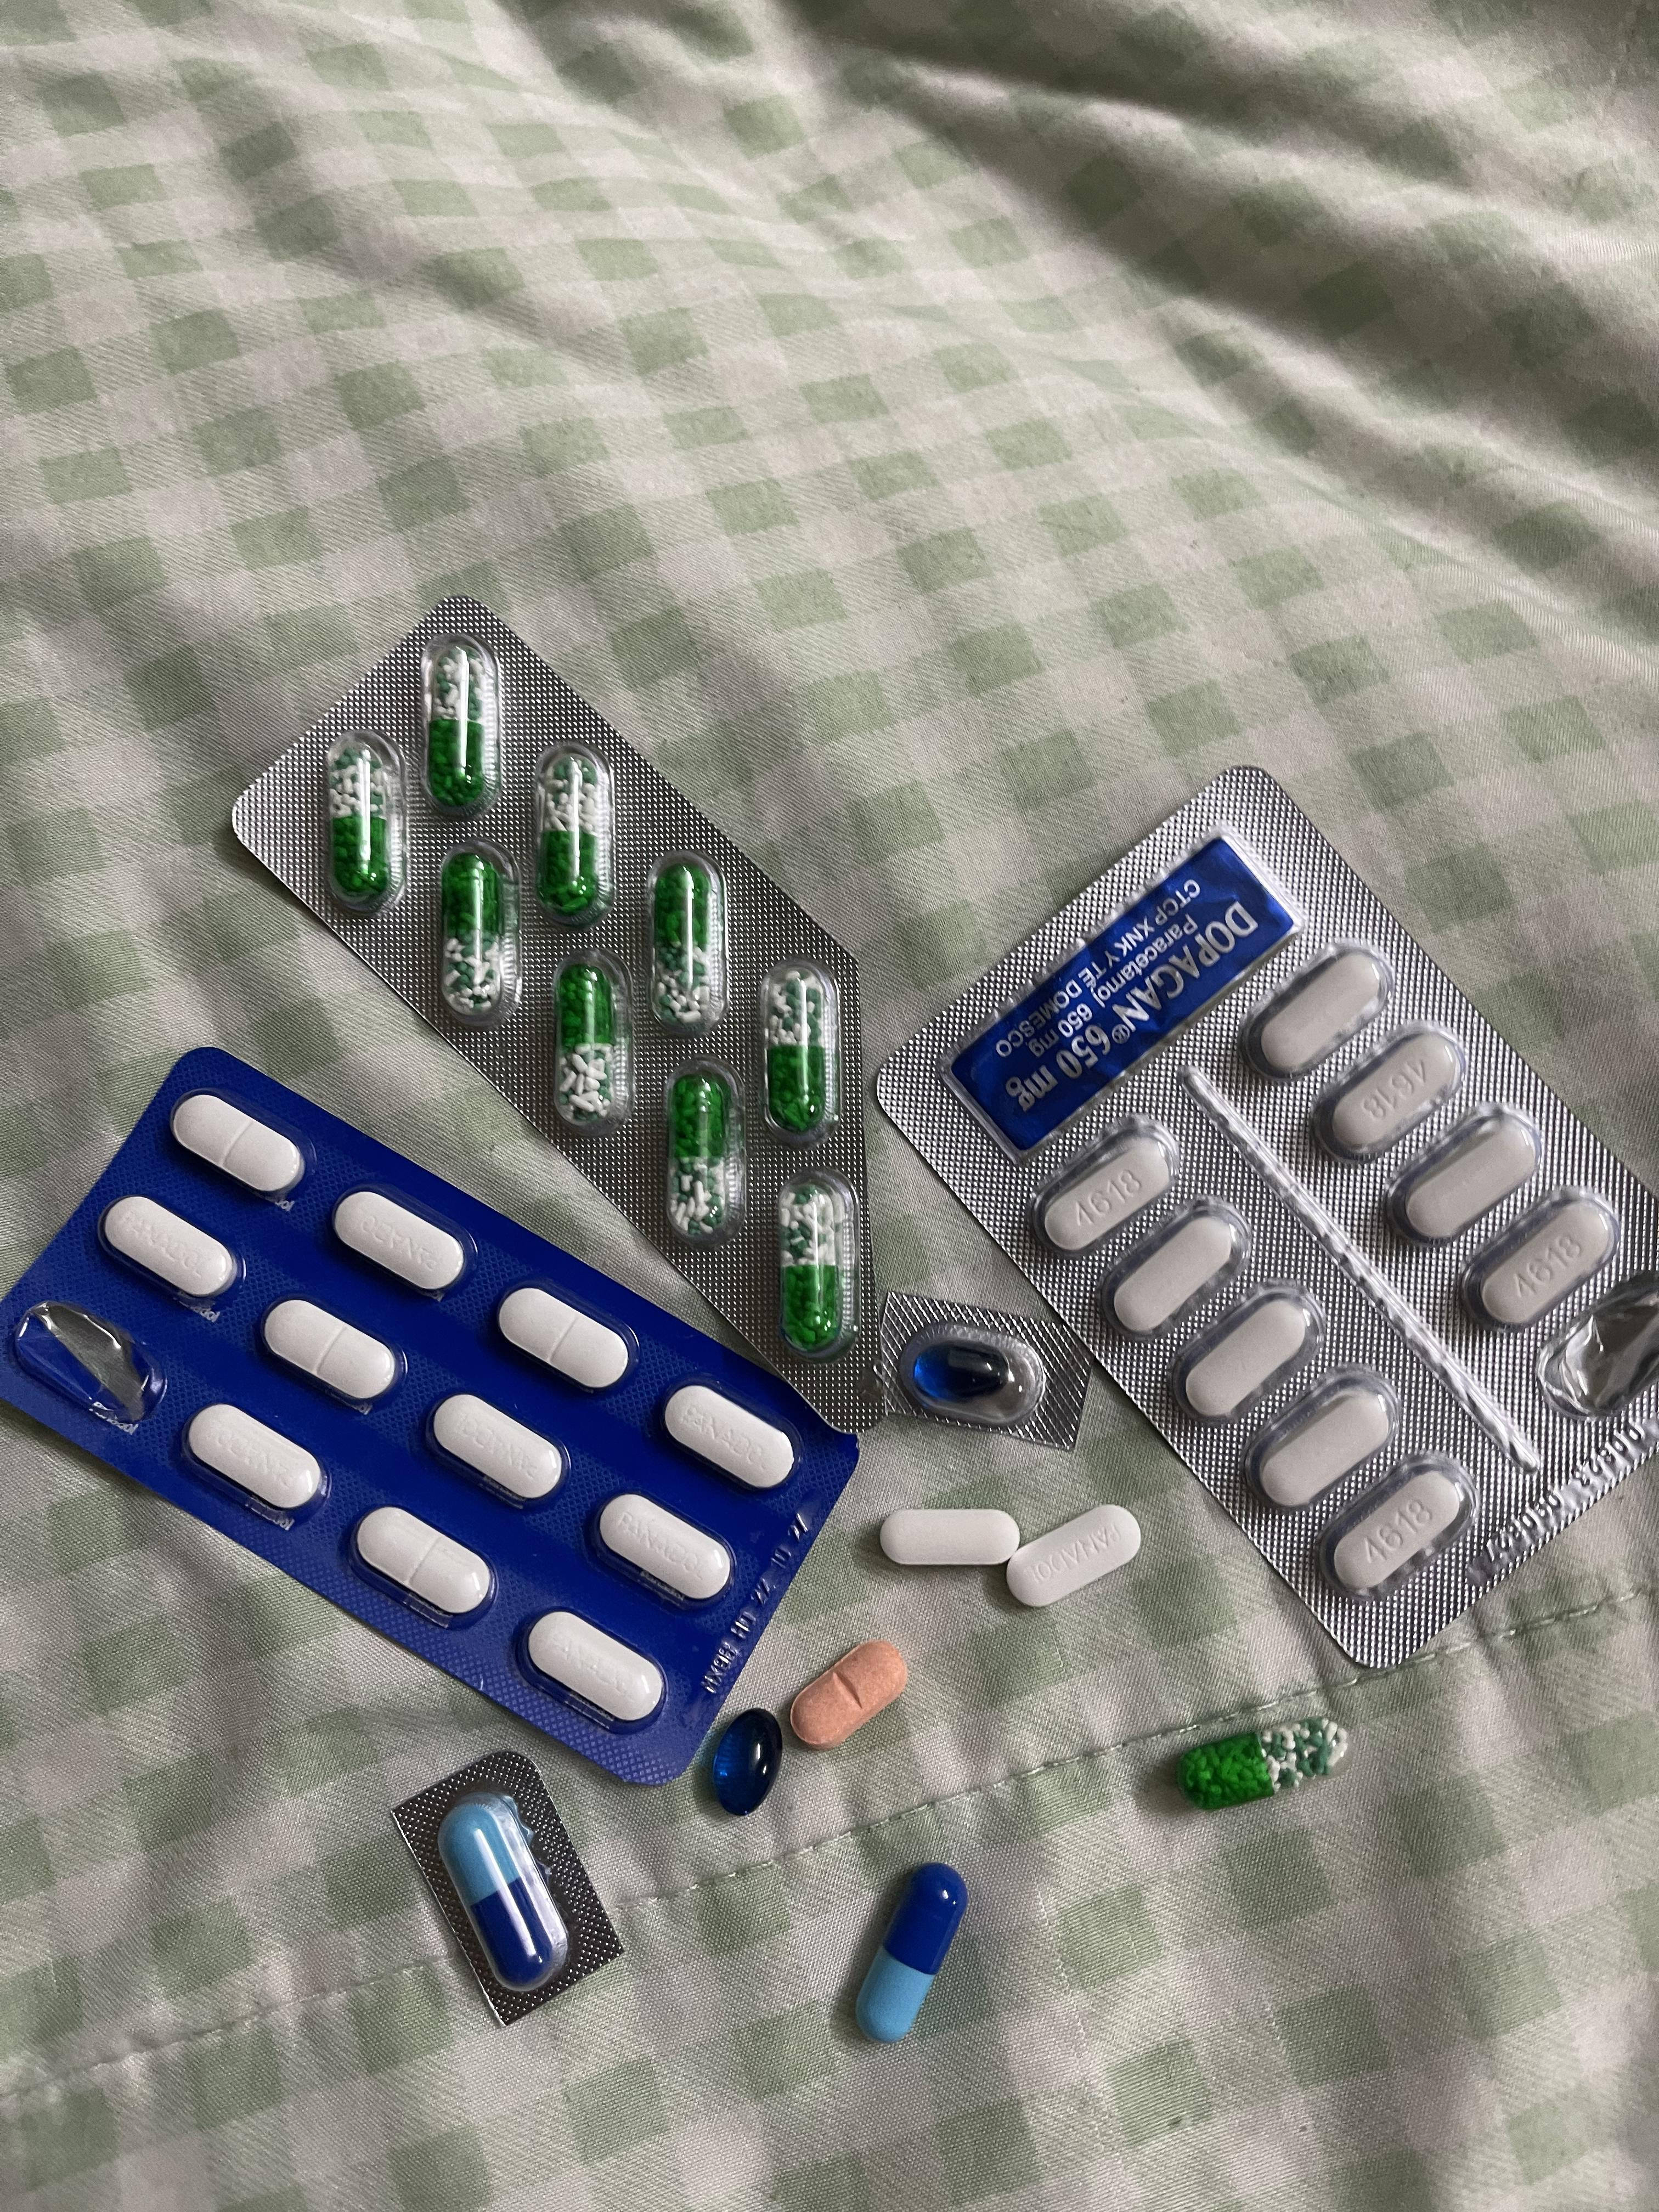Lincomyxin_500mg: (709, 1707, 784, 1814), (917, 1342, 1009, 1402)
Loratadine_10mg: (788, 1639, 901, 1748)
Paracetamol_350mg: (524, 1610, 667, 1727), (594, 1492, 737, 1606), (353, 1504, 492, 1619), (662, 1382, 803, 1493), (185, 1402, 321, 1516), (427, 1393, 563, 1505), (333, 1188, 471, 1299), (101, 1195, 237, 1307), (262, 1299, 397, 1410), (497, 1284, 635, 1392), (172, 1093, 309, 1200), (1006, 1507, 1138, 1608)
Paracetamol_500mg: (1318, 1454, 1476, 1605), (1388, 1102, 1545, 1245), (1171, 1278, 1318, 1430), (1033, 1110, 1176, 1256), (1480, 1196, 1620, 1328), (1258, 951, 1391, 1075), (1256, 1390, 1395, 1507), (1328, 1033, 1461, 1152), (1110, 1211, 1238, 1333), (881, 1506, 1023, 1568)
Paracetamol_650mg: (1184, 1714, 1345, 1807), (757, 968, 837, 1143), (665, 1064, 744, 1239), (778, 1171, 855, 1344), (426, 645, 489, 808), (536, 757, 600, 915), (556, 968, 621, 1122), (654, 866, 717, 1023), (441, 853, 500, 1016), (330, 746, 392, 902)
pill: (437, 1790, 573, 1995), (856, 1861, 967, 2042)
